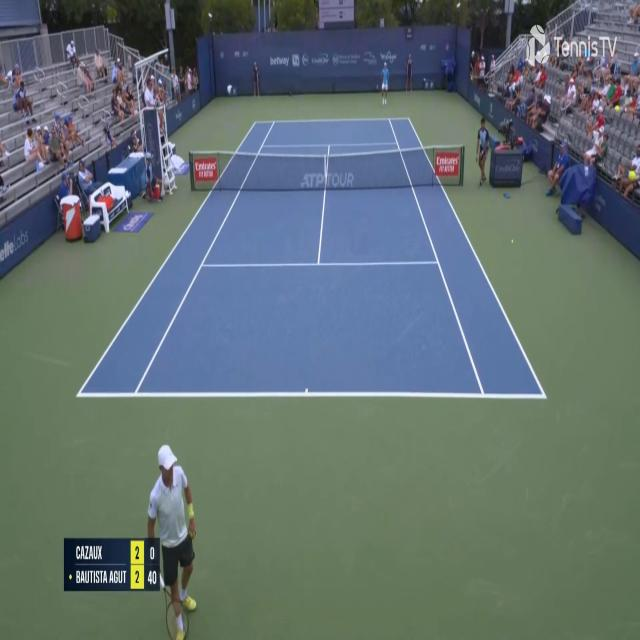tennis-player: (146, 438, 200, 636), (378, 60, 389, 106)
